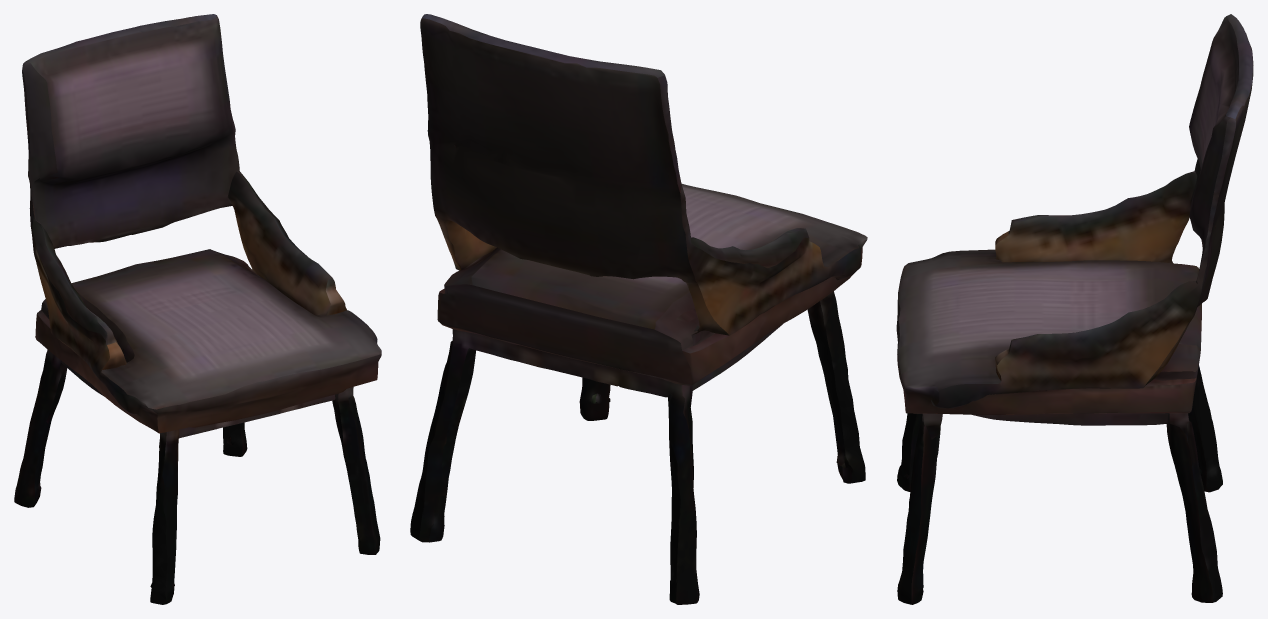
3 views of the same model, side by side, from view 1: azimuth 30°, elevation 25°; view 2: azimuth 150°, elevation 25°; view 3: azimuth 270°, elevation 25° (orthographic). The views are drawn at different scales.
Parts seen in each view (by area): view 1: world; view 2: world; view 3: world.
Boxes of the visible parts, x1,y1,x2,y2 form: world: (14, 14, 381, 604); world: (410, 14, 867, 604); world: (896, 14, 1253, 604).
Size of the model in its own units: 0.2506 by 0.4133 by 0.278.
1 material, 1 textured.
